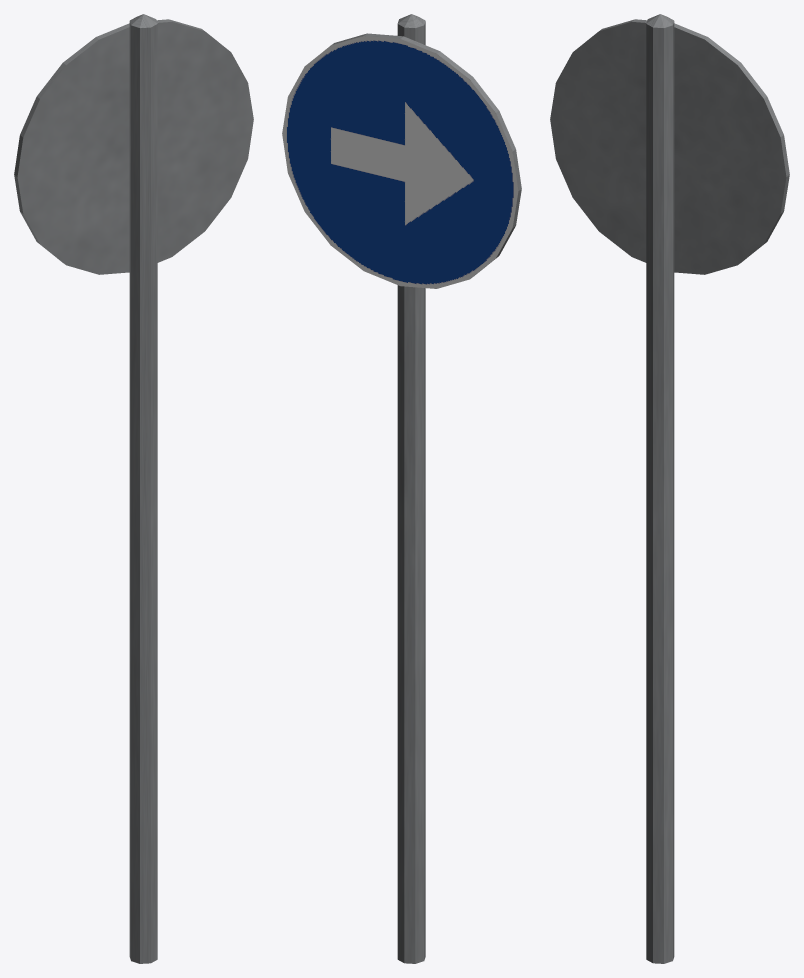
File: SM_Morin_CartelloObbligoDestra.fbx
3 renders of one model, left to right at view 1: azimuth 30°, elevation 25°; view 2: azimuth 150°, elevation 25°; view 3: azimuth 330°, elevation 25°, orthographic.
Visible parts, largest first — view 1: SM_Morin_CartelloObbligoDestra; view 2: SM_Morin_CartelloObbligoDestra; view 3: SM_Morin_CartelloObbligoDestra.
Part boxes in pixels (<box>): SM_Morin_CartelloObbligoDestra: <box>14,14,253,963</box>; SM_Morin_CartelloObbligoDestra: <box>282,14,521,963</box>; SM_Morin_CartelloObbligoDestra: <box>550,14,789,963</box>.
Size of what is drawn, in the model's own units: 60 by 8.2 by 229.
1 material, 1 textured.
